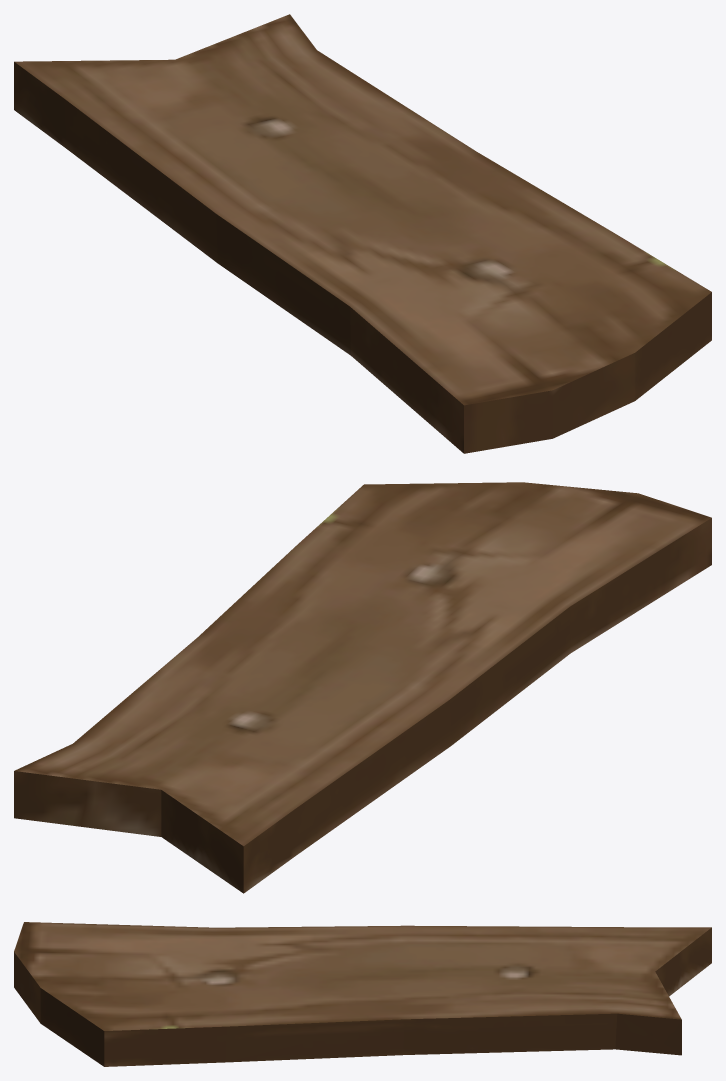
File: FB5_mubankuai01.FBX
3 views of the same model, one above another, from view 1: azimuth 30°, elevation 25°; view 2: azimuth 150°, elevation 25°; view 3: azimuth 270°, elevation 25° (orthographic). The views are drawn at different scales.
Visible parts, largest first — view 1: FB5_mubankuai01; view 2: FB5_mubankuai01; view 3: FB5_mubankuai01.
Boxes of the visible parts, bbox=[...] form: FB5_mubankuai01: bbox=[14, 14, 711, 453]; FB5_mubankuai01: bbox=[14, 482, 711, 893]; FB5_mubankuai01: bbox=[14, 922, 711, 1066].
Size of the model in its own units: 668 by 102 by 1807.
Materials: 1 (1 with a texture image).
